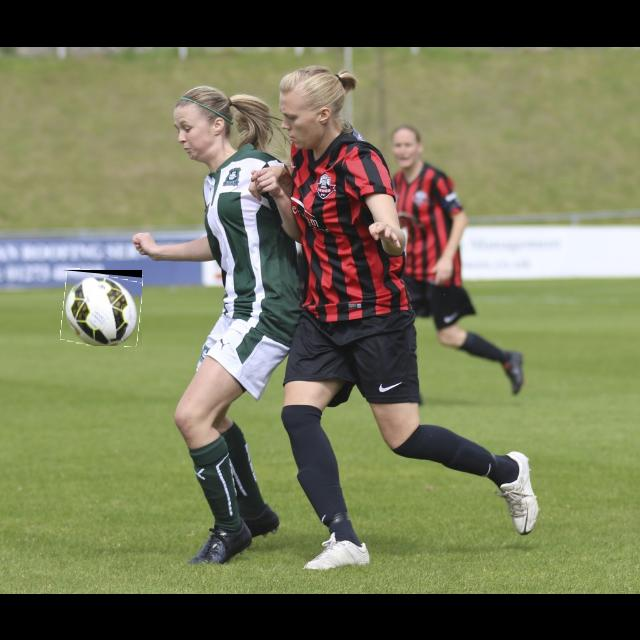Football: (62, 270, 142, 346)
